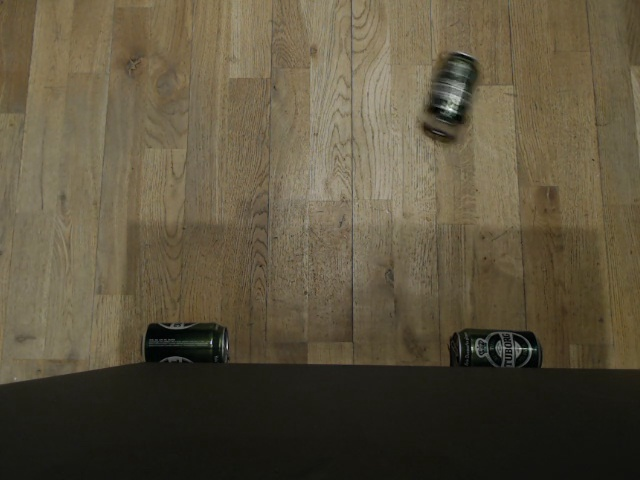beer: (422, 50, 479, 138), (446, 327, 544, 369), (137, 321, 231, 363)
